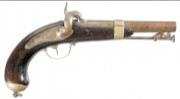gun: (4, 10, 177, 91)
